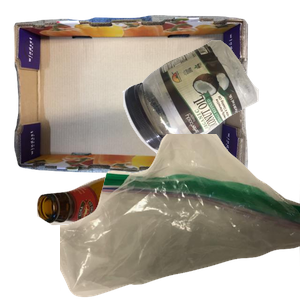cardboard: (11, 13, 251, 182)
glass: (34, 170, 223, 300)
plastic: (120, 37, 300, 185)
trash: (60, 134, 300, 300)
